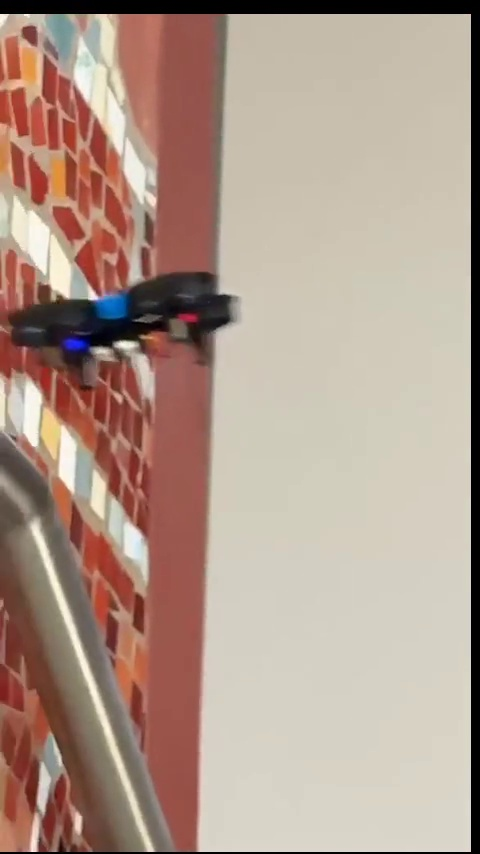drone: (10, 271, 237, 369)
